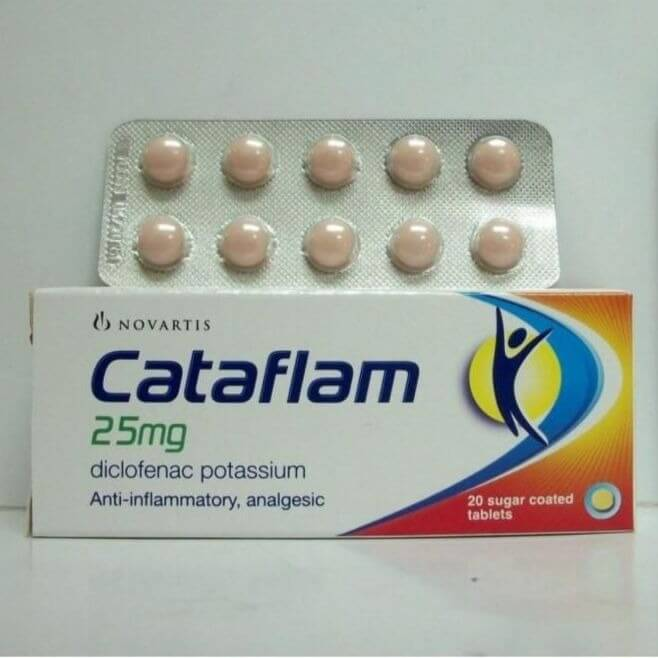Medicine: (18, 282, 640, 546)
